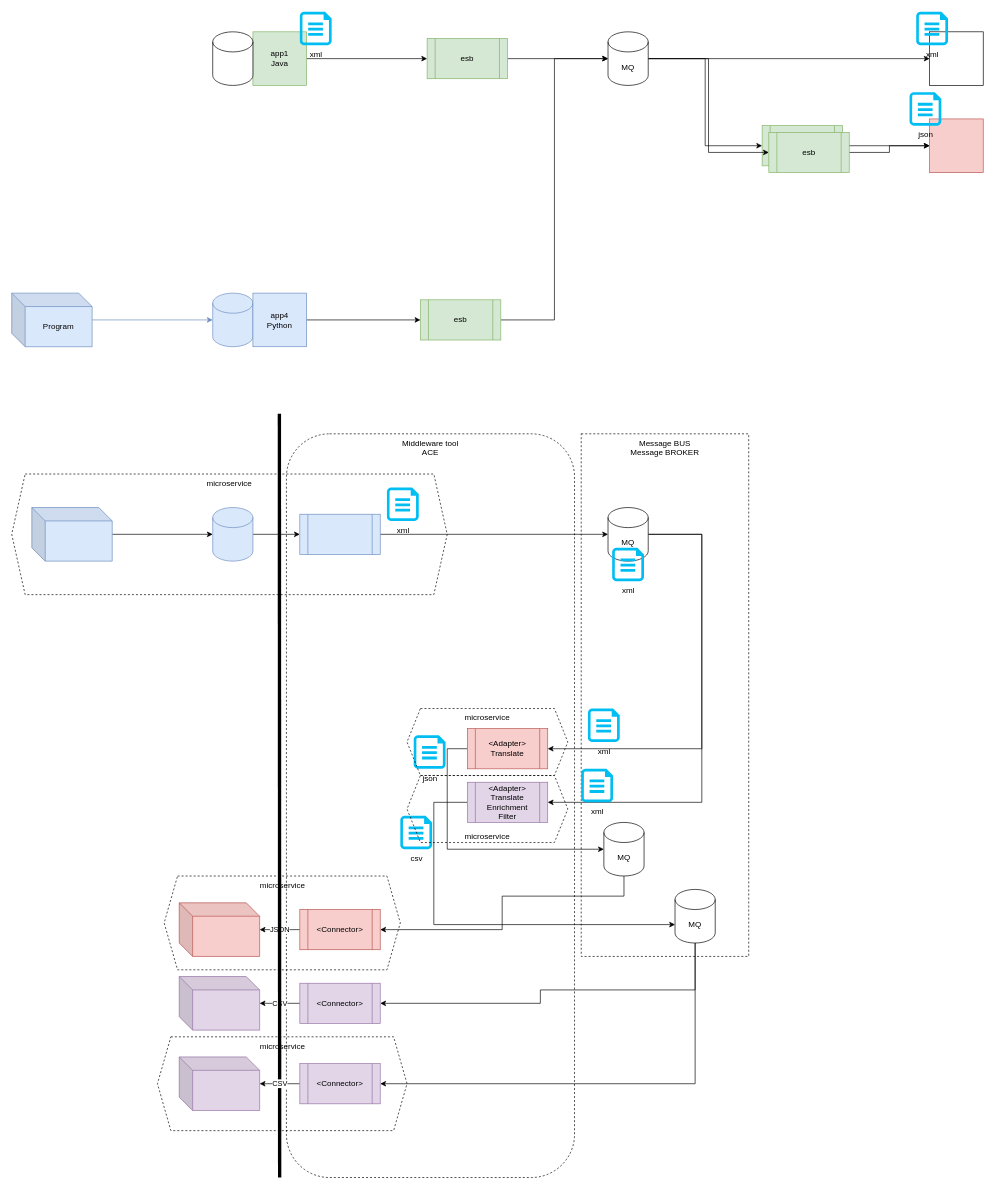
Some shapes in this 995 by 1191 pixel diagram are drawn without their labels. The centre of each missing label's shape, as x and y in pixels:
"<Connector> Query Translate" goes at pixel 339 534.
"app2" goes at pixel 956 58.
"app3 cobol" goes at pixel 956 145.
"Program1" goes at pixel 71 534.
"Program2" goes at pixel 219 929.
"Program3" goes at pixel 219 1003.
"Program4" goes at pixel 219 1083.
"sql1" goes at pixel 232 58.
"sql2" goes at pixel 232 319.
"sql3" goes at pixel 232 534.
